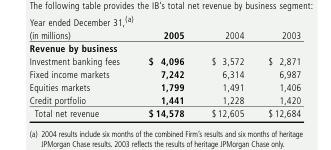table: (28, 28, 300, 118)
table column: (28, 28, 133, 118), (133, 28, 197, 118), (197, 28, 255, 118), (255, 28, 300, 118)
table column header: (28, 28, 300, 40)
table projected row header: (28, 40, 300, 53)
table row: (28, 53, 300, 67), (28, 40, 300, 53), (28, 67, 300, 80), (28, 80, 300, 93), (28, 93, 300, 106), (28, 28, 300, 40), (28, 106, 300, 118)
